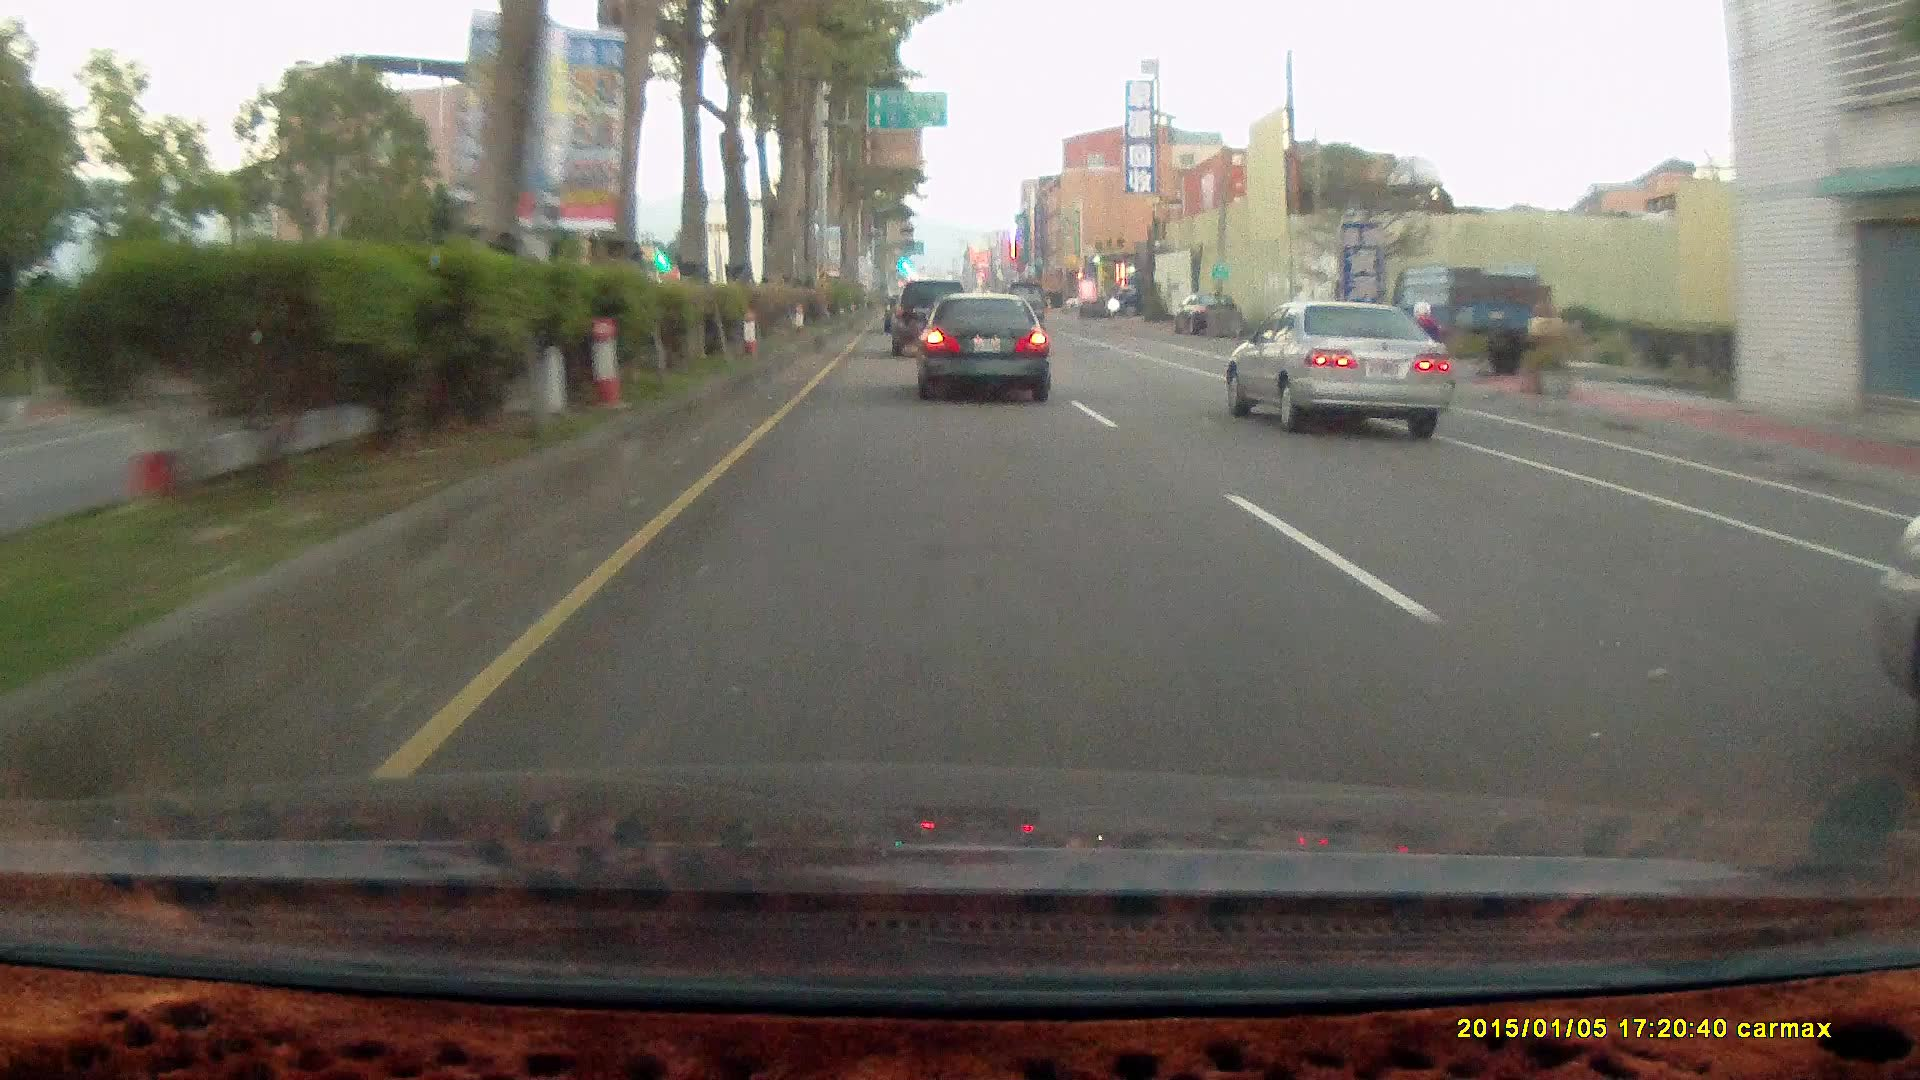rider: (1388, 301, 1451, 414), (1401, 298, 1453, 407)
vehicle: (1228, 302, 1461, 442), (1225, 298, 1454, 438), (1393, 264, 1543, 374), (1393, 267, 1542, 375), (912, 294, 1050, 404), (920, 297, 1055, 403), (888, 281, 970, 358), (1173, 295, 1248, 343), (1104, 281, 1170, 320), (999, 279, 1046, 328)
